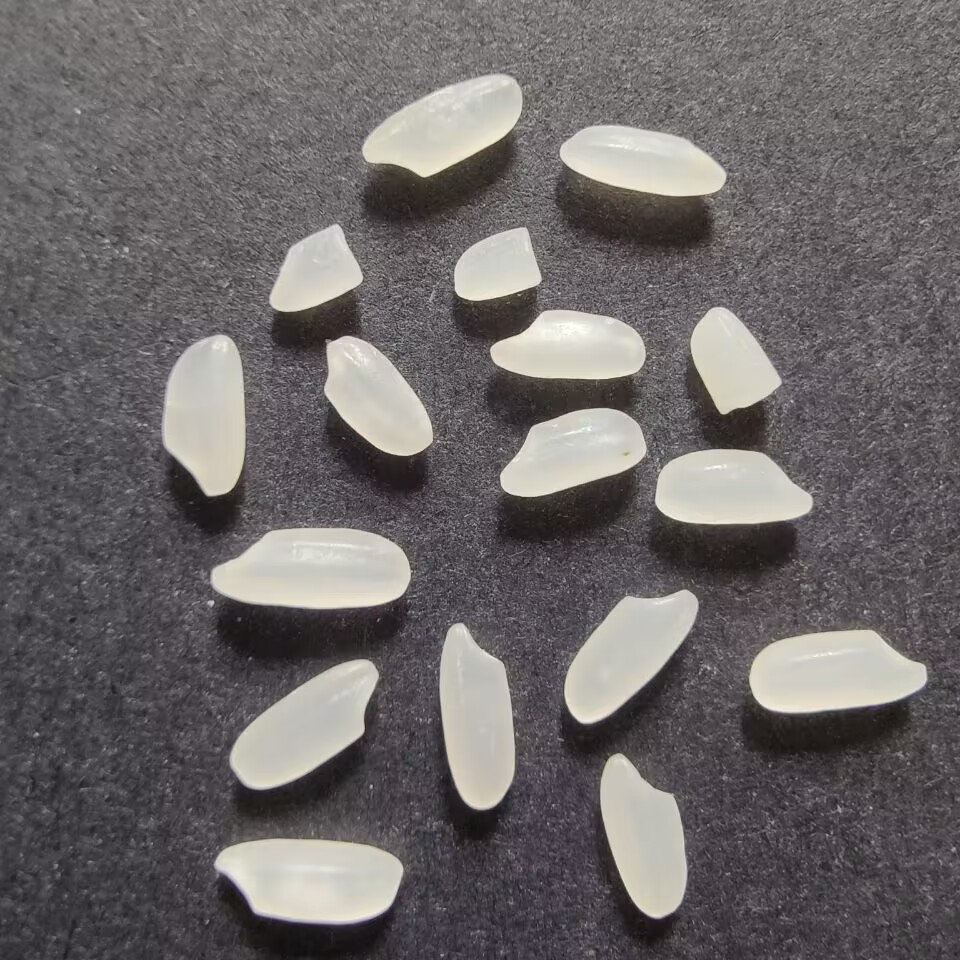broken: (685, 302, 784, 415), (261, 218, 366, 317), (447, 223, 546, 303)
rice: (226, 656, 380, 795), (559, 585, 700, 724), (203, 835, 409, 929), (356, 67, 526, 180), (203, 522, 412, 612), (433, 616, 521, 816), (592, 748, 693, 922), (745, 625, 932, 713), (316, 332, 443, 459), (159, 332, 250, 502), (492, 405, 650, 500), (647, 444, 817, 526), (554, 120, 728, 198), (486, 305, 647, 386)
